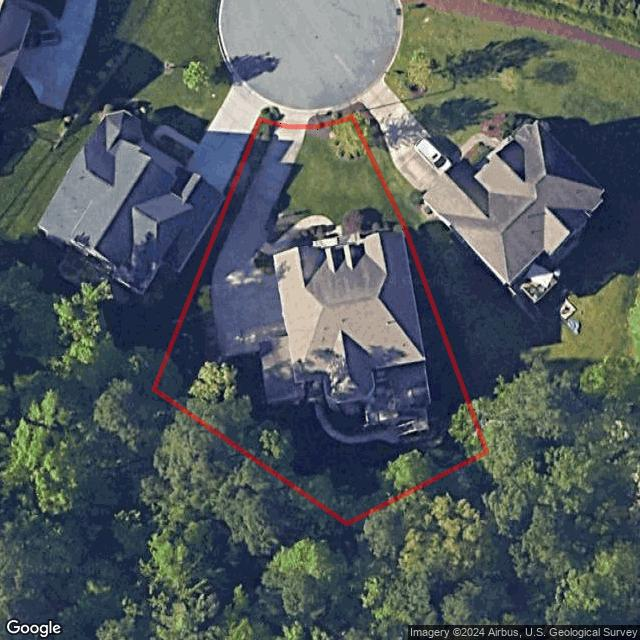Driveway: (210, 124, 308, 358)
Extra-Driveway: (277, 108, 314, 128)
House: (257, 233, 427, 409)
Lawn: (154, 114, 488, 524)
Other: (301, 382, 428, 444), (368, 361, 430, 429), (306, 117, 369, 161), (344, 208, 389, 240), (288, 224, 325, 249)
Sidewalk: (259, 215, 337, 255)
